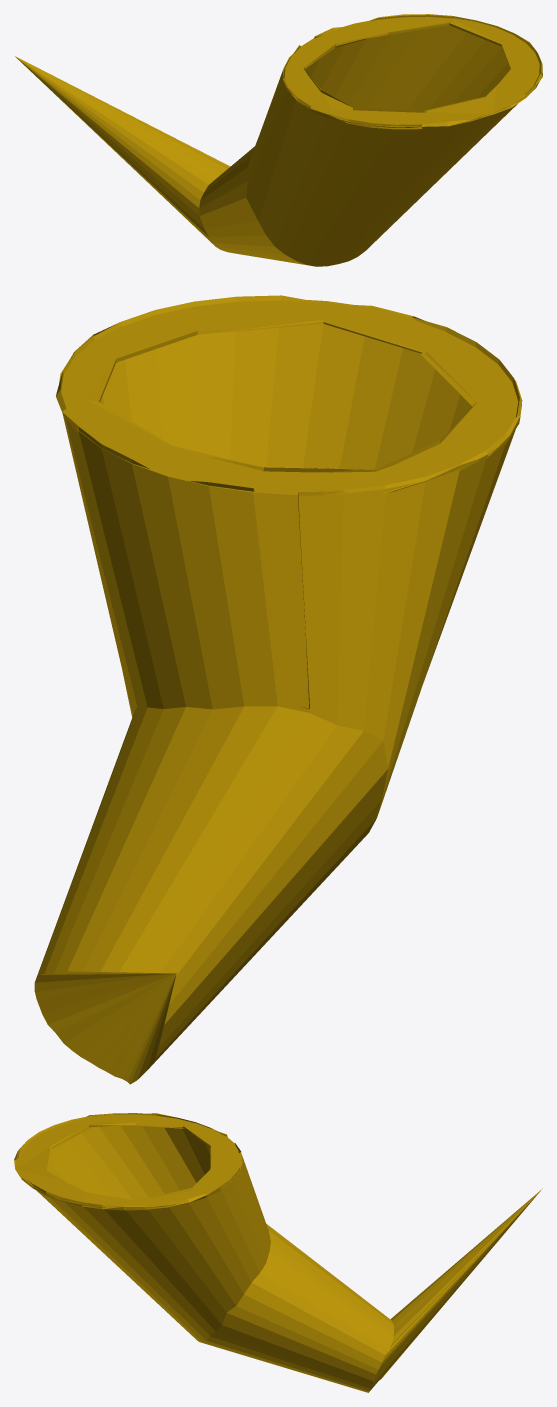
The model's file is HeimdallColored3.fbx.
The picture shows the model from 3 angles, top to bottom: view 1: azimuth 30°, elevation 25°; view 2: azimuth 150°, elevation 25°; view 3: azimuth 270°, elevation 25°; orthographic projection. The views are drawn at different scales.
Visible parts, largest first — view 1: Cone; view 2: Cone; view 3: Cone.
Part boxes in pixels (bbox=[...]): Cone: bbox=[15, 14, 542, 266]; Cone: bbox=[34, 295, 522, 1084]; Cone: bbox=[14, 1113, 542, 1392].
Size of the model in its own units: 189 by 178 by 345.
